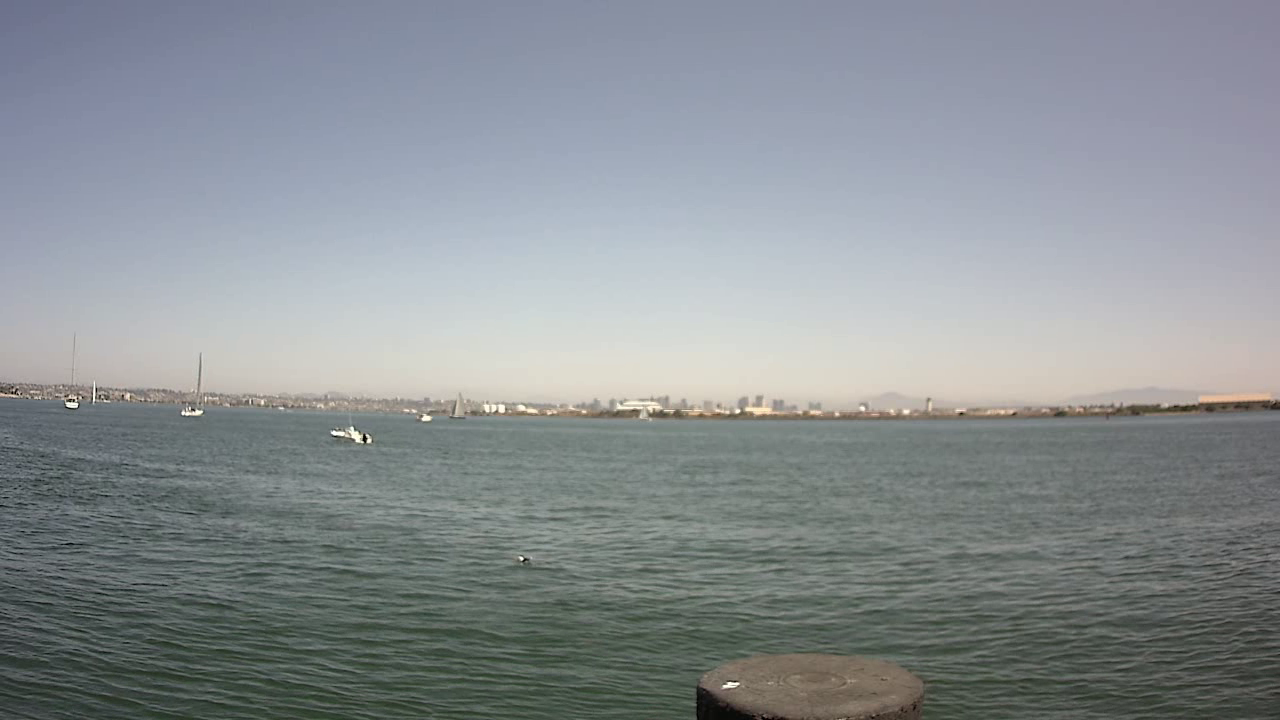target: (321, 415, 371, 454)
